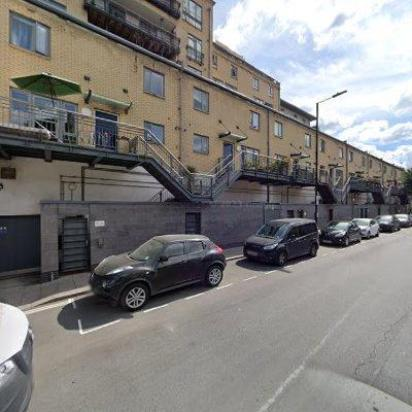moving-light-truck: (0, 300, 36, 412)
stationary-car-onstreet: (88, 234, 228, 312), (318, 220, 364, 248), (348, 217, 380, 238), (373, 214, 401, 232), (394, 214, 412, 228)
stationary-light-truck-onstreet: (242, 219, 320, 267)
